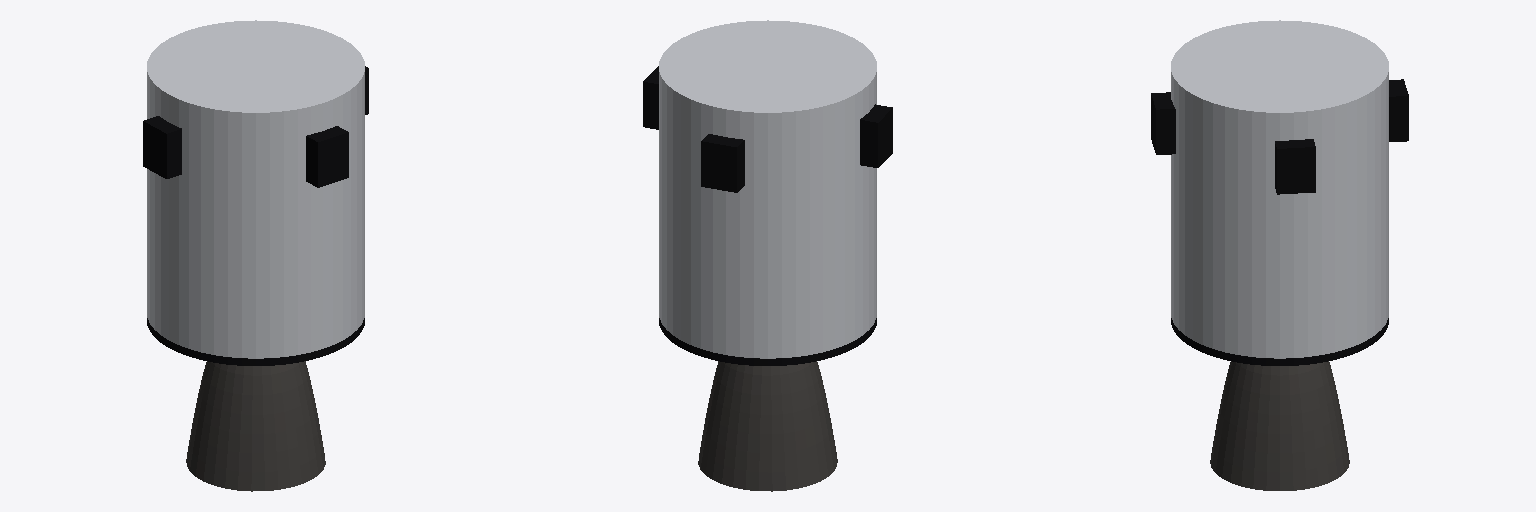
robot.urdf — sm:
<?xml version="1.0"?>
<!-- Service Module, SPS engine and RCS quads, at scale -->
<robot name="sm">
  <link name="base">
    <visual>
      <origin xyz="0 0 0" rpy="0 0 0"/>
      <geometry><mesh filename="meshes/sm_silver.stl"/></geometry>
      <material name="base_0"><color rgba="0.800 0.810 0.830 1"/></material>
    </visual>
    <visual>
      <origin xyz="0 0 0" rpy="0 0 0"/>
      <geometry><mesh filename="meshes/sm_dark.stl"/></geometry>
      <material name="base_1"><color rgba="0.080 0.080 0.090 1"/></material>
    </visual>
    <visual>
      <origin xyz="0 0 0" rpy="0 0 0"/>
      <geometry><mesh filename="meshes/sm_engine.stl"/></geometry>
      <material name="base_2"><color rgba="0.300 0.290 0.280 1"/></material>
    </visual>
    <inertial><mass value="6110"/><origin xyz="0 0 0"/><inertia ixx="1" ixy="0" ixz="0" iyy="1" iyz="0" izz="1"/></inertial>
  </link>
</robot>

--- Facts derived from the render (not from the file) ---
Views: 3 orthographic renders of the robot side by side, from view 1: azimuth 30°, elevation 25°; view 2: azimuth 150°, elevation 25°; view 3: azimuth 270°, elevation 25°.
Model sm with 1 links and 0 joints (none), rooted at base, posed every joint at zero.
Visible links, largest first — view 1: base; view 2: base; view 3: base.
Boxes of the visible links, bbox=[...] form: base: bbox=[143, 20, 368, 491]; base: bbox=[643, 20, 892, 491]; base: bbox=[1151, 20, 1408, 490].
Bounding box of the posed robot: 4.61 × 4.61 × 7.8 m (x, y, z).
Meshes: 3 distinct files referenced, 3 mesh visuals loaded (3 binary STL).
